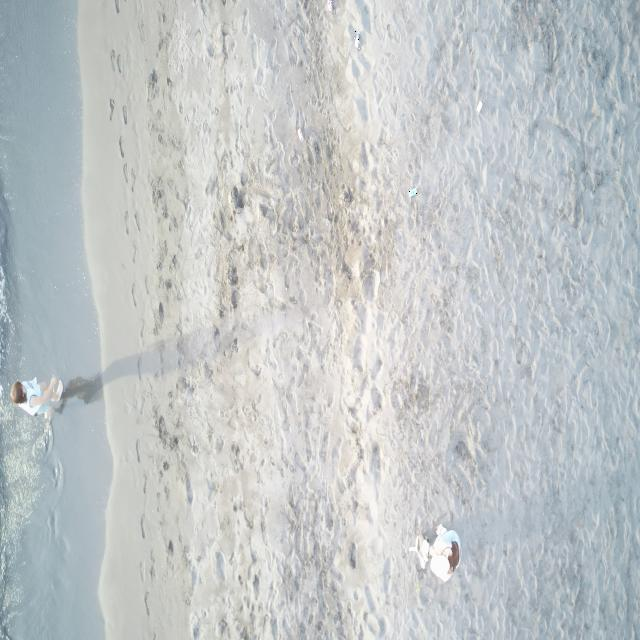tin-and-aluminum-cans: (354, 31, 362, 50), (475, 101, 483, 115), (408, 188, 417, 200), (297, 128, 304, 142), (326, 0, 334, 12)
